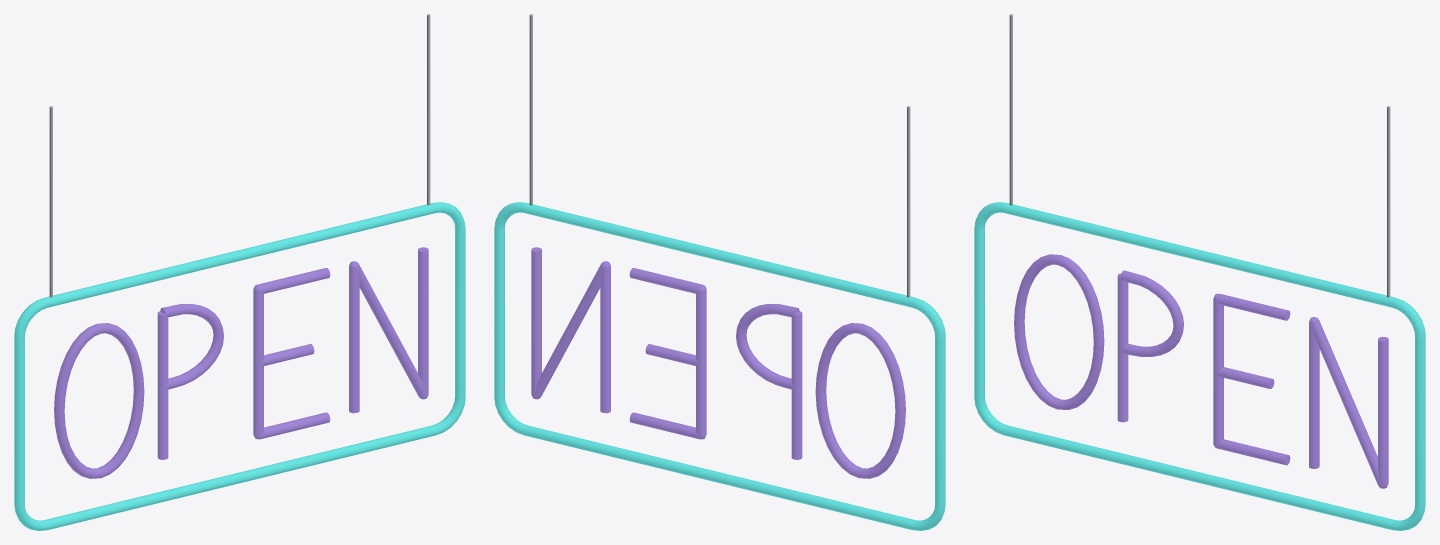
Rendered from SM_OpenNeon.glb.
The picture shows the model from 3 angles, left to right: view 1: azimuth 30°, elevation 25°; view 2: azimuth 150°, elevation 25°; view 3: azimuth 330°, elevation 25°; orthographic projection.
Parts seen in each view (by area): view 1: SM_OpenNeon; view 2: SM_OpenNeon; view 3: SM_OpenNeon.
Boxes of the visible parts, x1,y1,x2,y2 form: SM_OpenNeon: (14,14,465,530); SM_OpenNeon: (494,14,945,530); SM_OpenNeon: (974,14,1425,530).
Size of the model in its own units: 0.848 by 0.759 by 0.018.
Materials: 2 (2 with a texture image).
